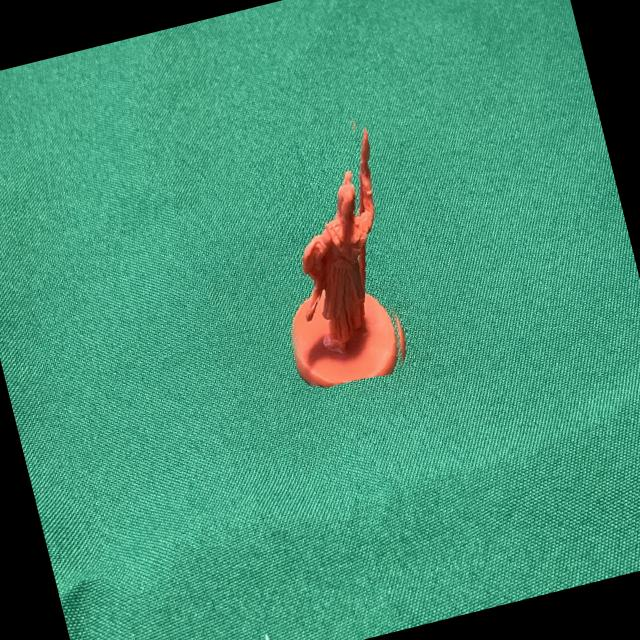amon_follower: (290, 123, 397, 386)
